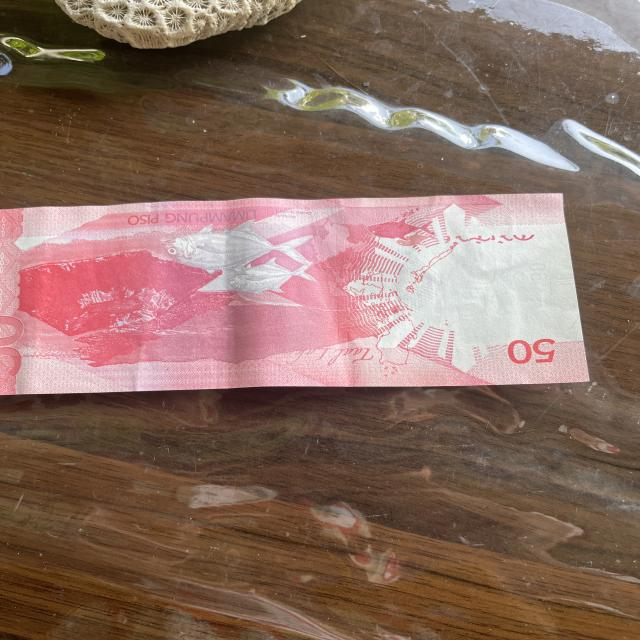50_maliputo: (154, 213, 322, 307)
50_maliputo_watermark: (356, 210, 443, 248)
value_watermark: (521, 255, 560, 287)
watermark: (428, 236, 595, 338)
